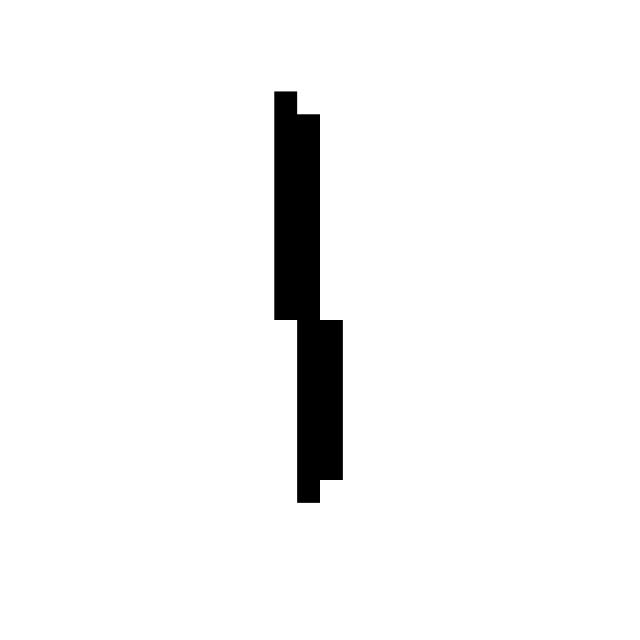1 -one-: (242, 73, 370, 517)
